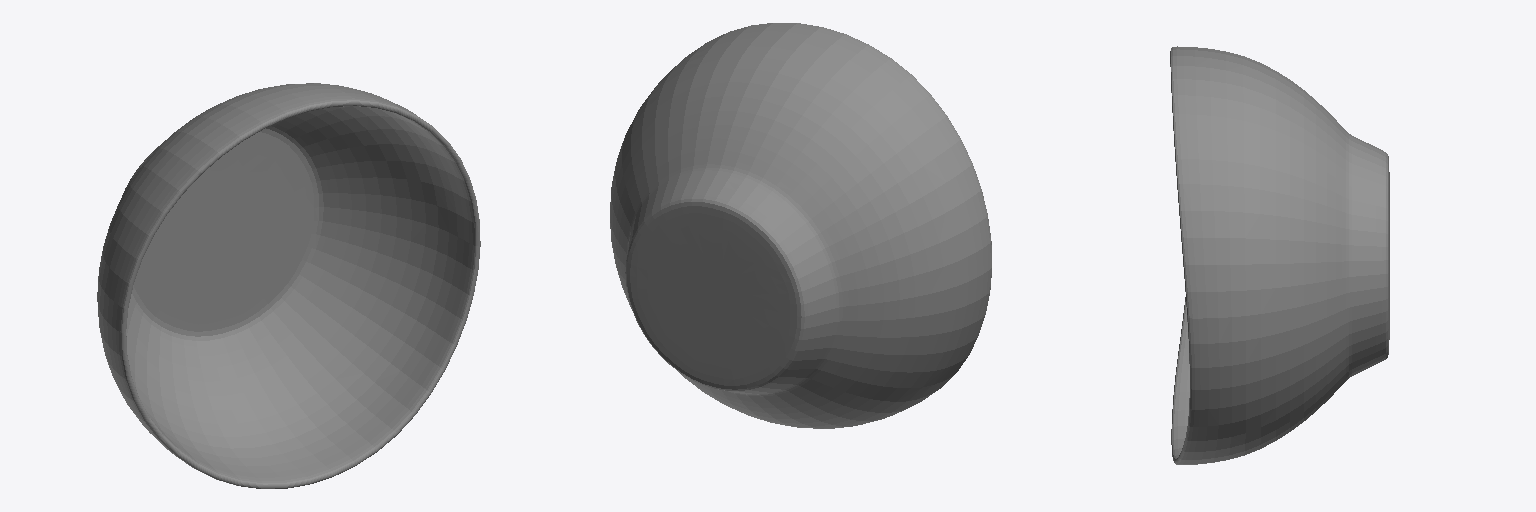
The model's file is cup.obj.
3 views of the same model, side by side, from view 1: azimuth 30°, elevation 25°; view 2: azimuth 150°, elevation 25°; view 3: azimuth 270°, elevation 25° (orthographic).
Parts seen in each view (by area): view 1: cup; view 2: cup; view 3: cup.
Boxes of the visible parts, box(x1,y1,x2,y2) form: cup: box(97, 83, 480, 488); cup: box(610, 23, 991, 428); cup: box(1170, 46, 1389, 464).
Size of the model in its own units: 15.76 by 15.87 by 8.3.